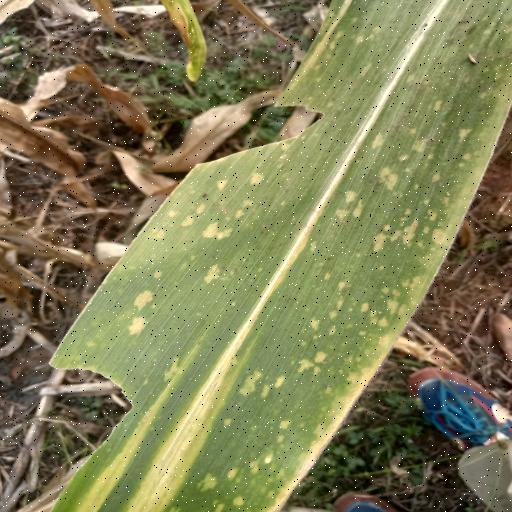Corn_Yellow_Spots: (15, 0, 512, 512)
